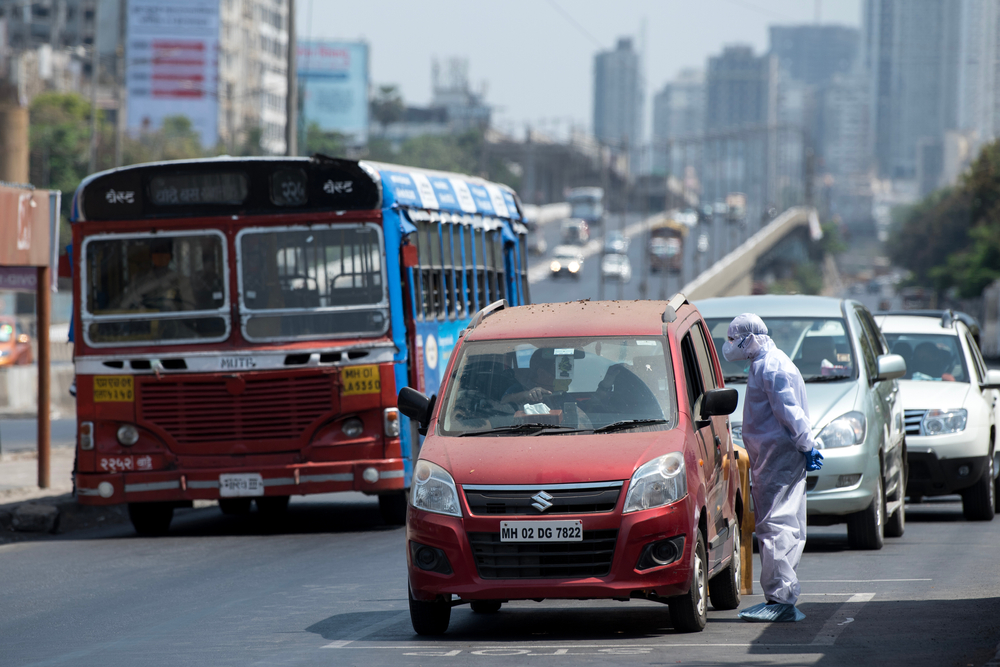bus: (62, 171, 406, 532)
car: (408, 307, 737, 633), (701, 302, 879, 476), (890, 316, 992, 515)
